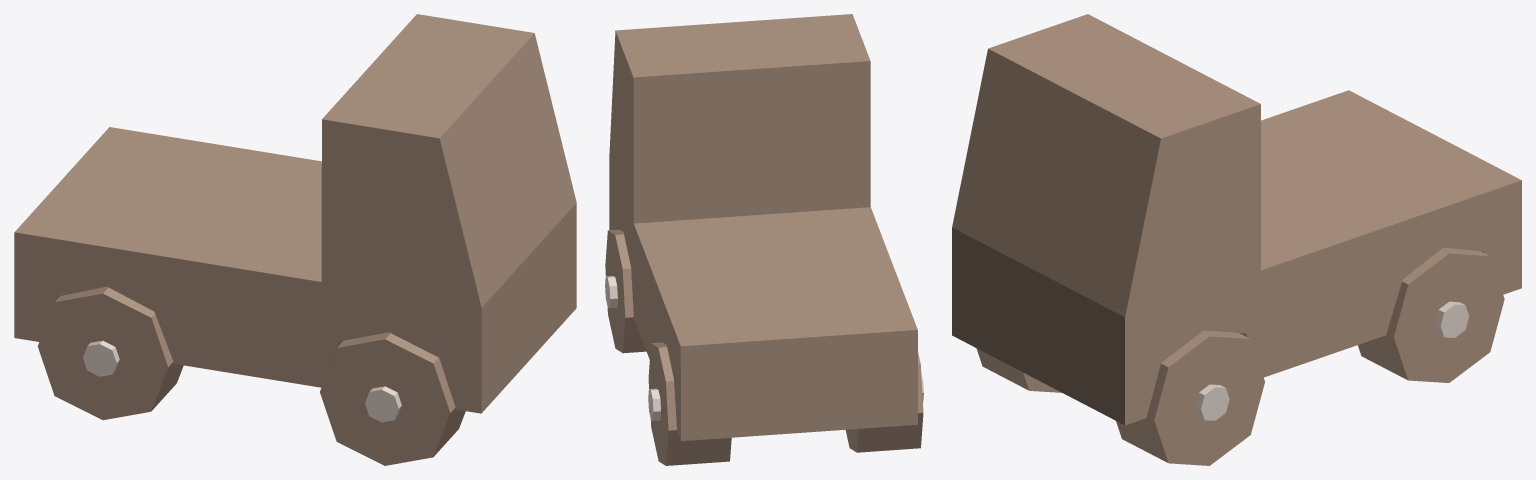
File: Playground_chil_cars.fbx
3 renders of one model, left to right at view 1: azimuth 30°, elevation 25°; view 2: azimuth 150°, elevation 25°; view 3: azimuth 270°, elevation 25°, orthographic. The views are drawn at different scales.
Visible parts, largest first — view 1: Playground_chil_cars; view 2: Playground_chil_cars; view 3: Playground_chil_cars.
Boxes of the visible parts, box(x1,y1,x2,y2) form: Playground_chil_cars: box(14, 14, 576, 465); Playground_chil_cars: box(605, 14, 923, 465); Playground_chil_cars: box(952, 14, 1521, 465).
Size of the model in its own units: 43.69 by 30.56 by 46.46.
